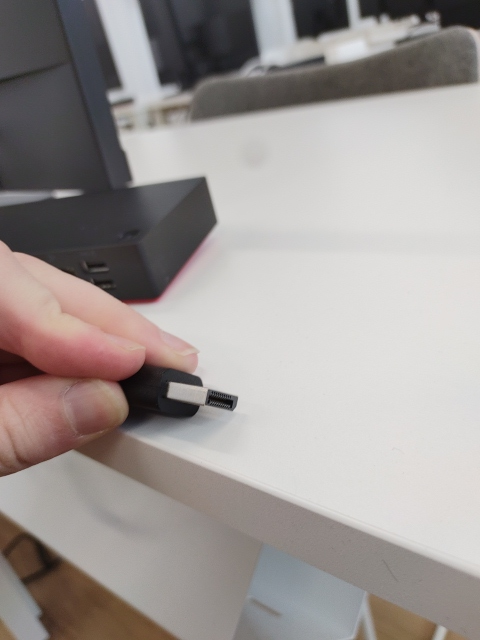USB: (164, 382, 240, 413), (83, 260, 108, 270), (92, 279, 114, 288)
